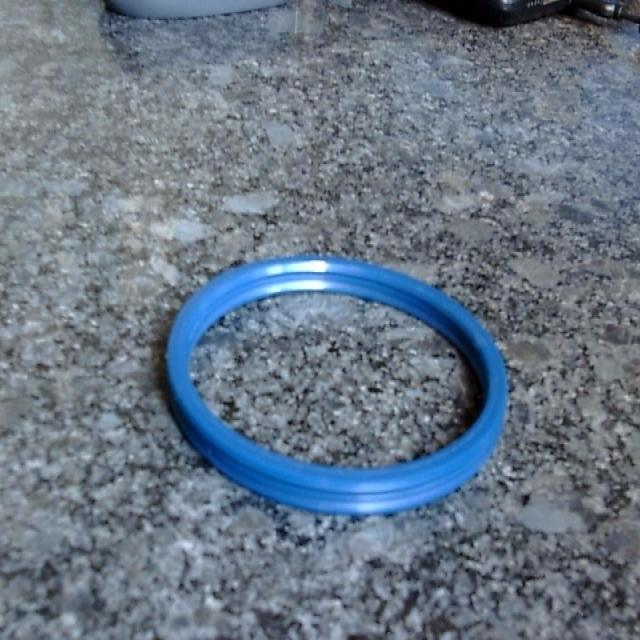purssian-blue-ring: (166, 257, 508, 513)
